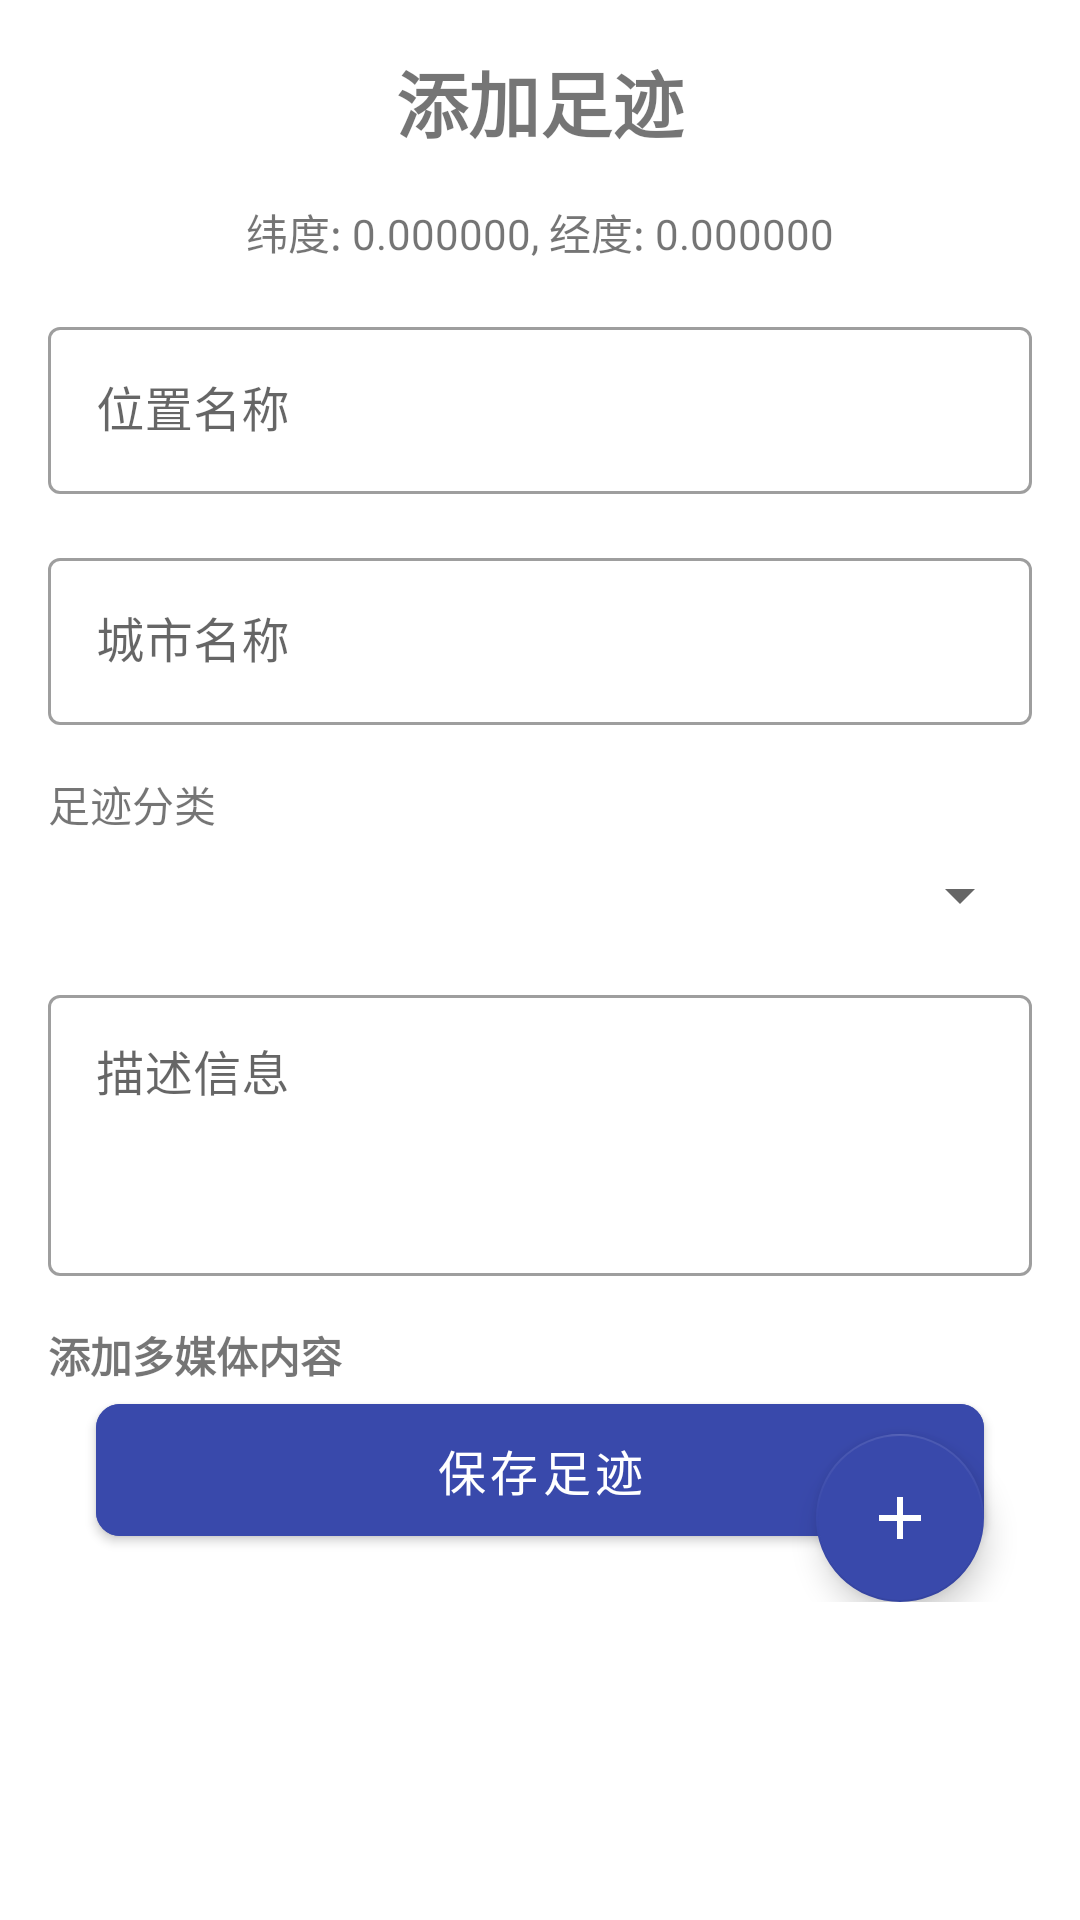

Point at icon controls on the screen. Image size 1080 x 1920, points as (x=x, y=y).
add: (x=900, y=1518)
